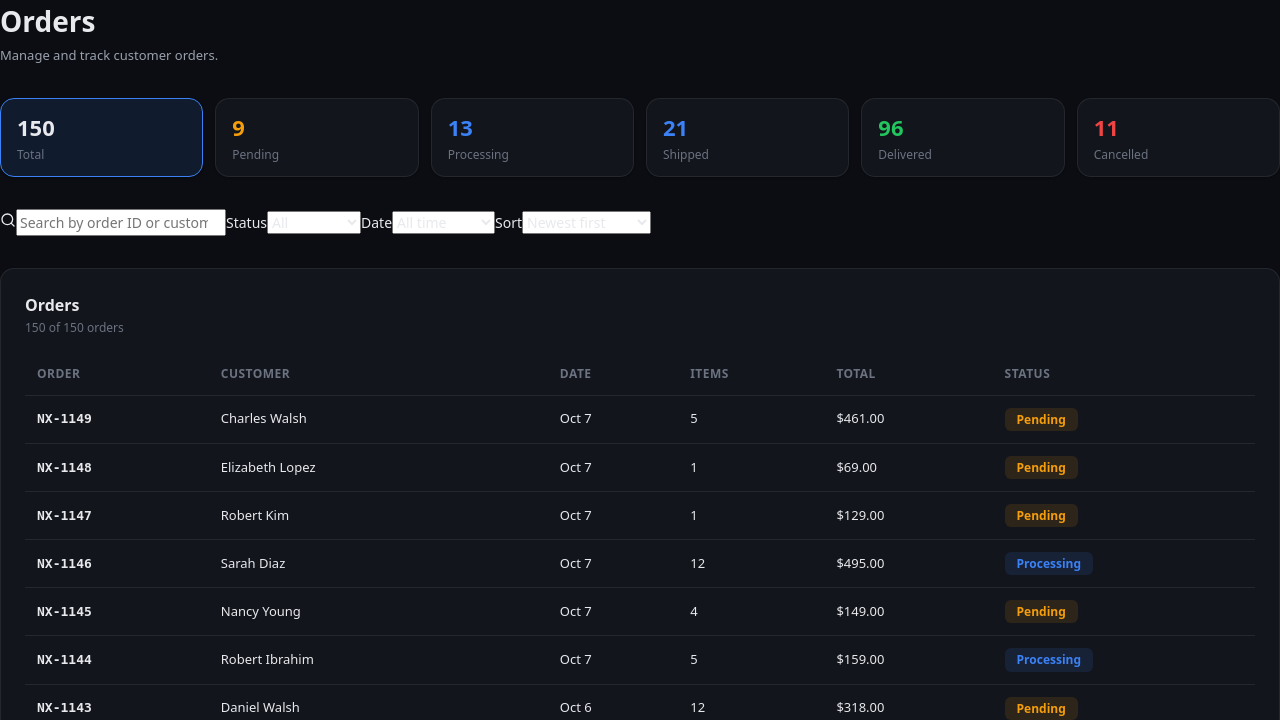
Test case: Orders page status changes › advances a Shipped order to Delivered and updates the drawer, timeline, table and counts
The image size is (1280, 720).
Click the button "21 Shipped": (748, 137) [646,98,849,176]
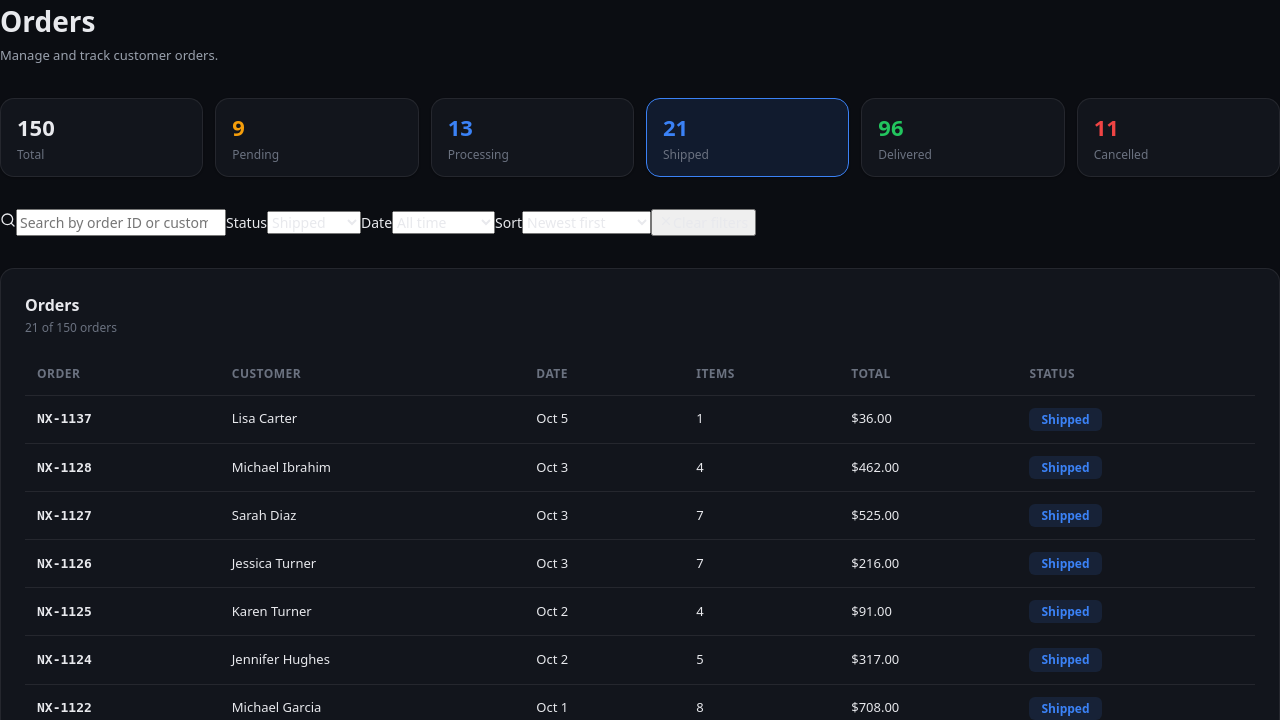
Click the button with aria-label "view order": (64, 419) [37,409,92,429]
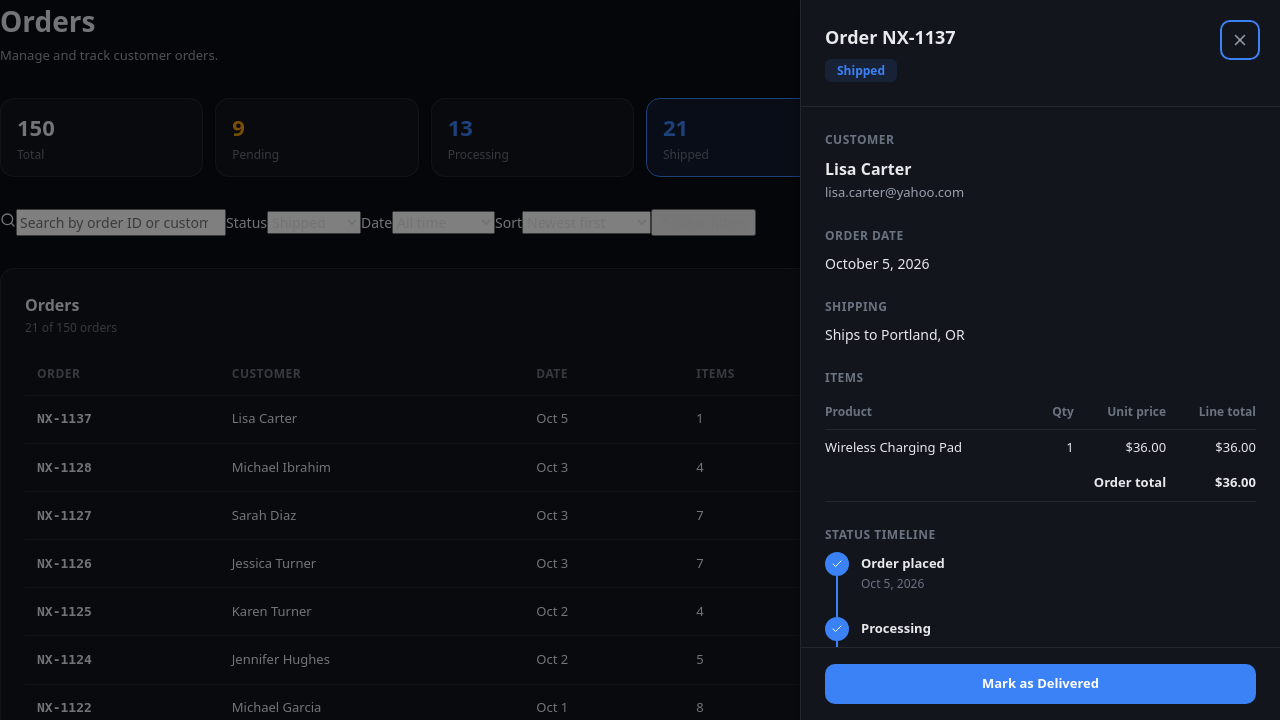
Click the button "Mark as Delivered": (1040, 684) [825,664,1256,704]
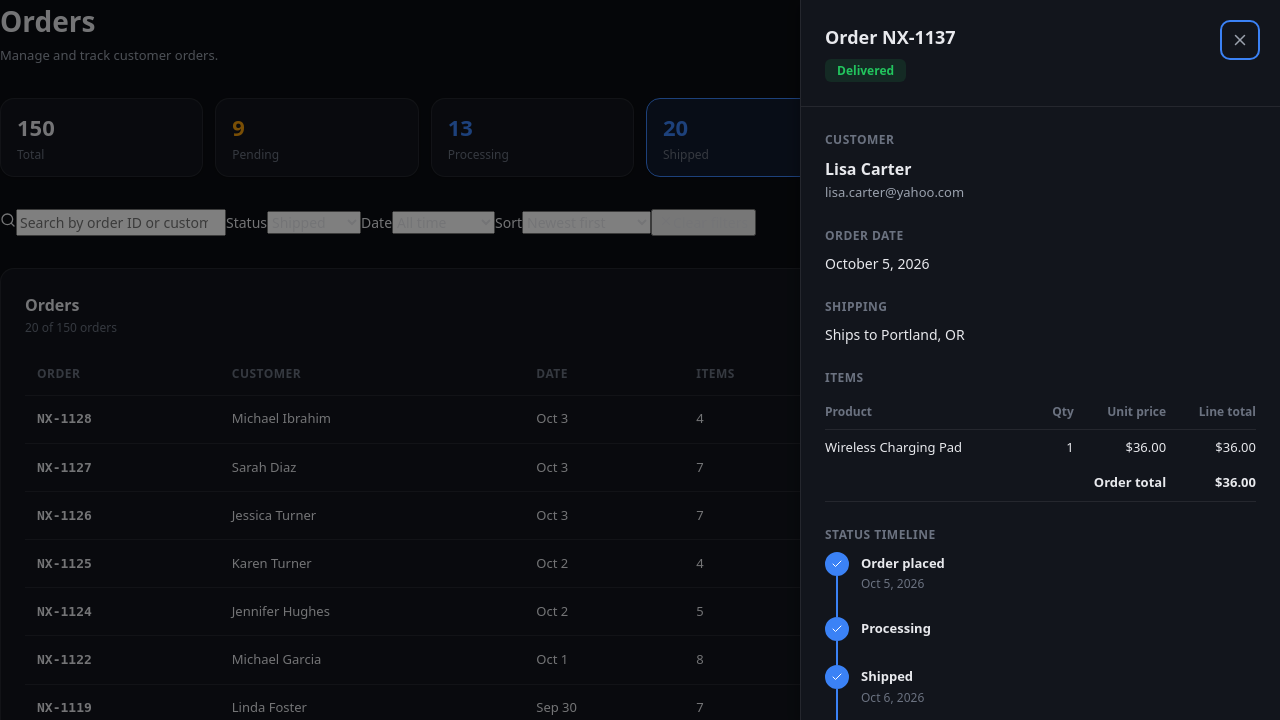
Check: the text "Delivered" is shown, box [825,59,906,82]
Check: the button "Mark as" is gone
